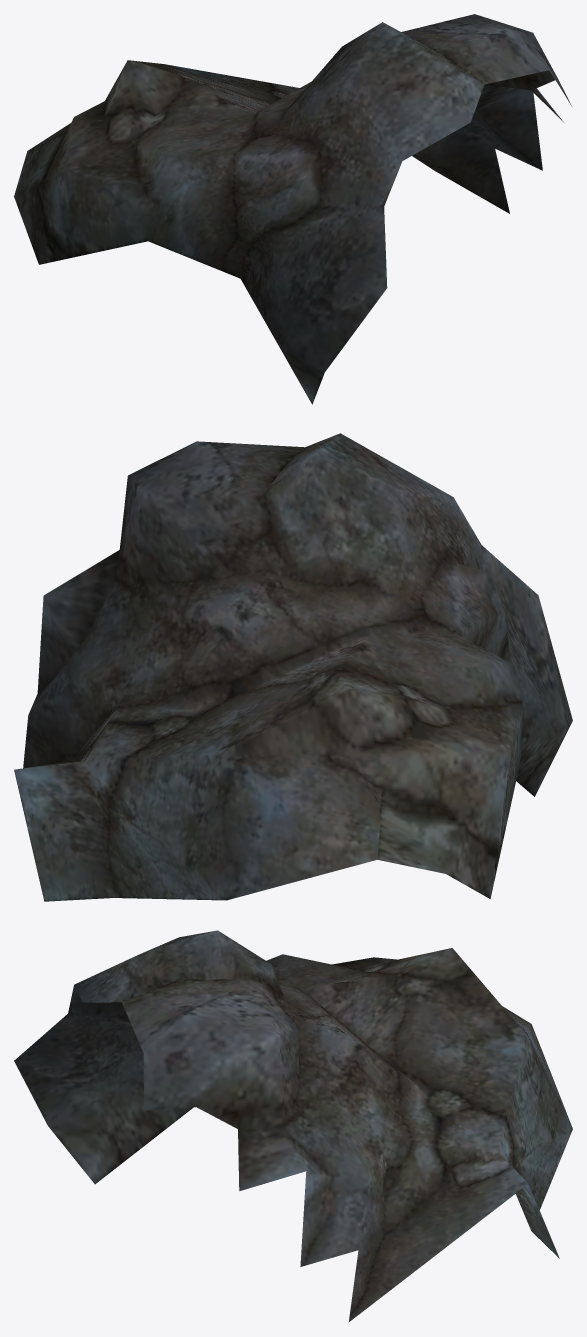
The model's file is S_Rock_Yellow034_H11.FBX.
3 renders of one model, top to bottom at view 1: azimuth 30°, elevation 25°; view 2: azimuth 150°, elevation 25°; view 3: azimuth 270°, elevation 25°, orthographic. The views are drawn at different scales.
Parts seen in each view (by area): view 1: S_Rock_Yellow034_H11; view 2: S_Rock_Yellow034_H11; view 3: S_Rock_Yellow034_H11.
Boxes of the visible parts, x1=… form: S_Rock_Yellow034_H11: x1=14, y1=14, x2=571, y2=404; S_Rock_Yellow034_H11: x1=14, y1=433, x2=572, y2=901; S_Rock_Yellow034_H11: x1=14, y1=930, x2=572, y2=1322.
Size of the model in its own units: 922 by 961 by 607.
1 material, 1 textured.
